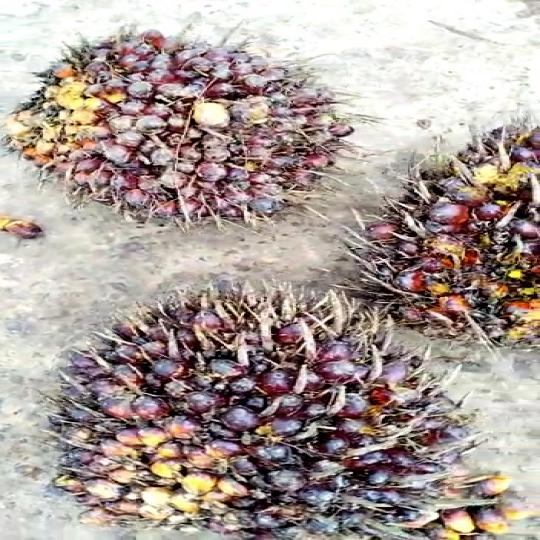masak: (46, 273, 473, 540), (19, 16, 374, 246), (306, 112, 540, 356)
